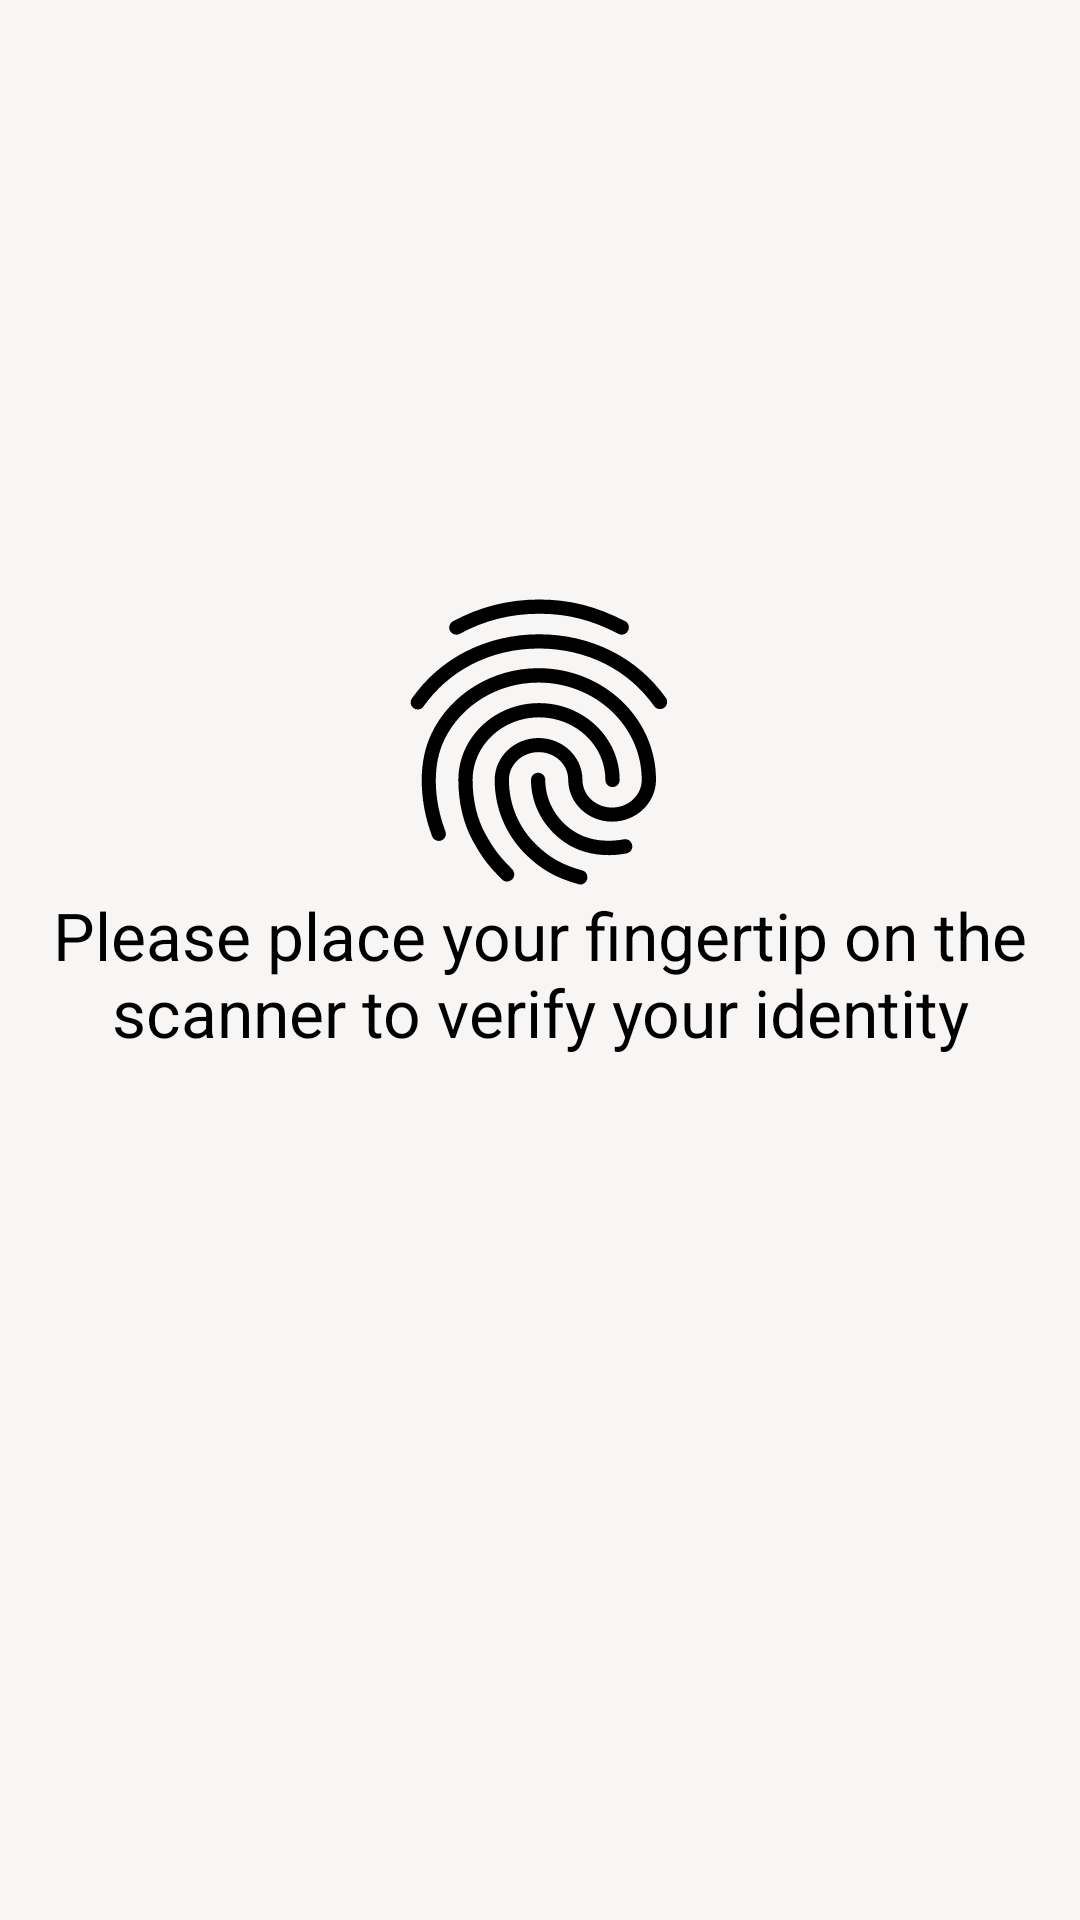

Point at icon controls on the screen. Image size 1080w x 1920h, points as point (x, y).
fingerprint: point (539, 742)
